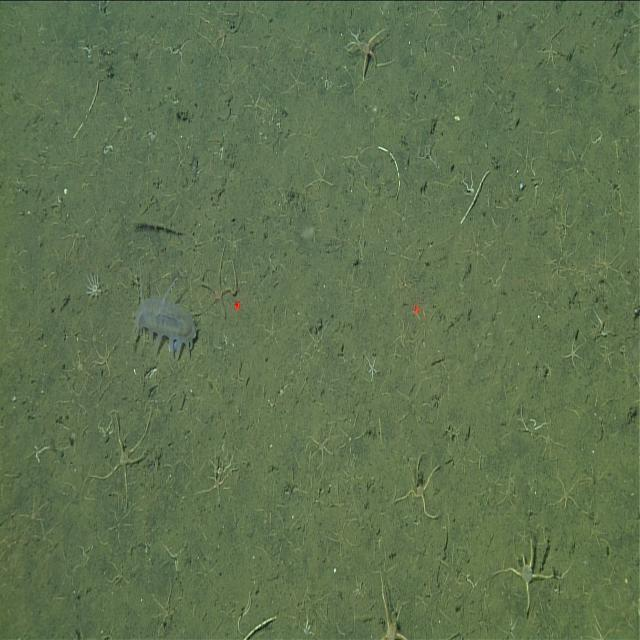Brittle Star: (490, 528, 572, 624), (340, 15, 395, 89), (392, 450, 446, 524), (194, 447, 240, 514), (548, 464, 586, 519), (304, 419, 338, 470), (90, 332, 122, 384), (558, 326, 589, 376)
